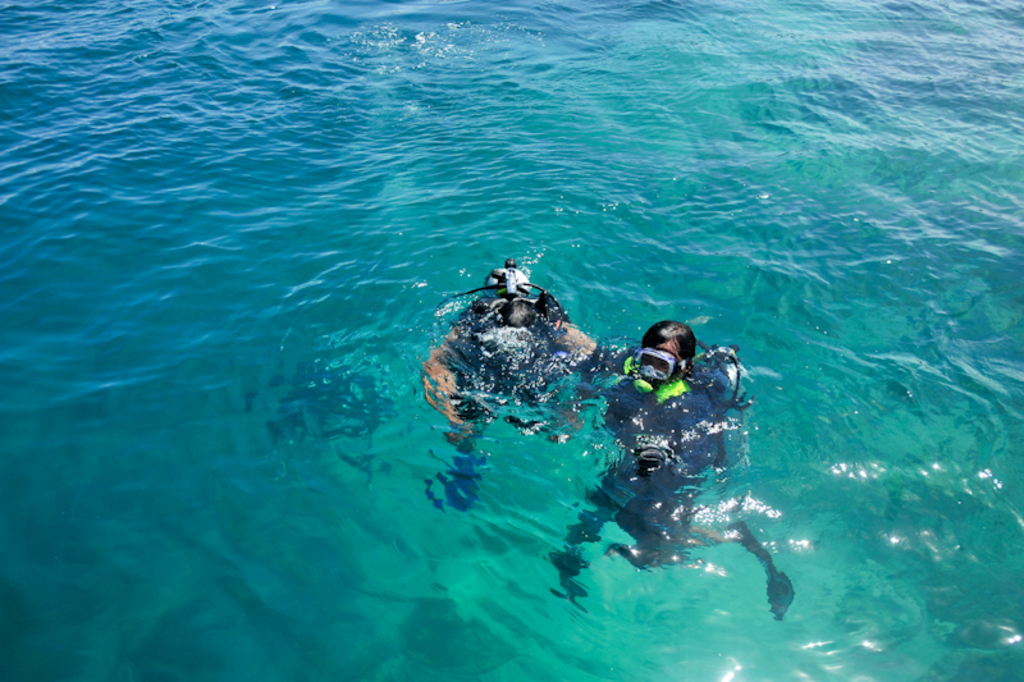Person: (603, 319, 795, 621), (421, 257, 597, 512)
